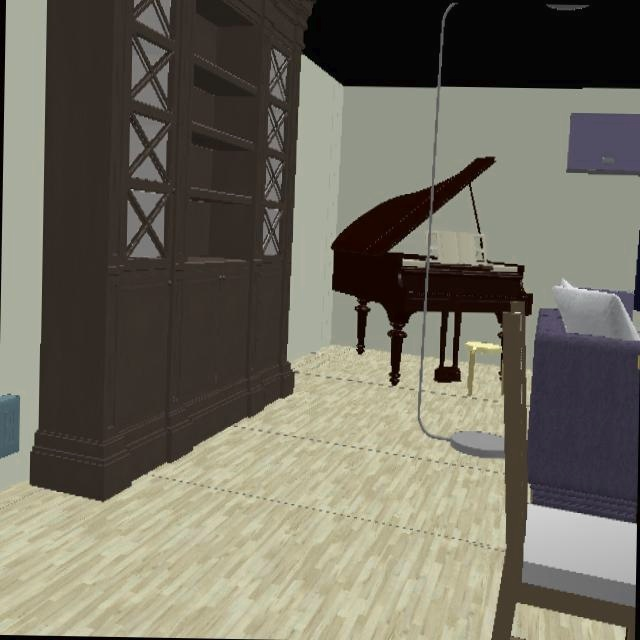bookshelf: (29, 0, 316, 501)
cabinet: (568, 113, 640, 179)
chair: (492, 311, 636, 640)
pillow: (551, 278, 640, 342)
sofa: (527, 308, 640, 519)
